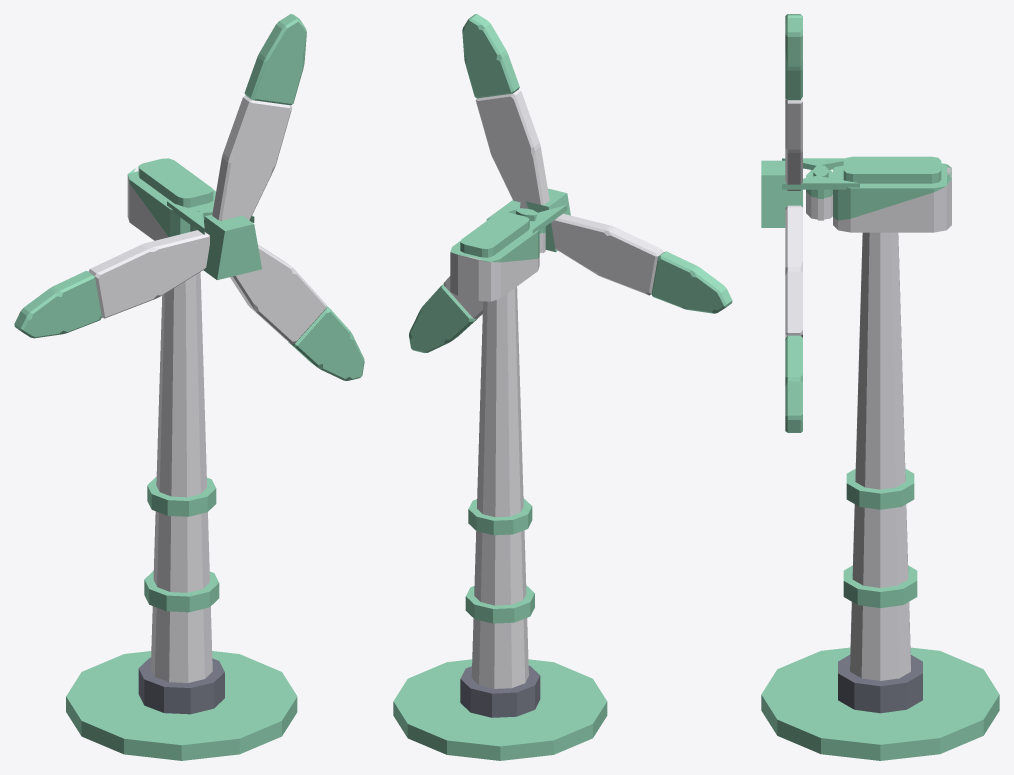
File: windturbine-1x1-t2-tone-a.glb
3 views of the same model, side by side, from view 1: azimuth 30°, elevation 25°; view 2: azimuth 150°, elevation 25°; view 3: azimuth 270°, elevation 25° (orthographic). The views are drawn at different scales.
Visible parts, largest first — view 1: windturbine-1x1-t2-tone-a; view 2: windturbine-1x1-t2-tone-a; view 3: windturbine-1x1-t2-tone-a.
Boxes of the visible parts, left/top/right/bottom form: windturbine-1x1-t2-tone-a: left=14, top=14, right=364, bottom=760; windturbine-1x1-t2-tone-a: left=393, top=14, right=732, bottom=760; windturbine-1x1-t2-tone-a: left=761, top=14, right=999, bottom=760.
Size of the model in its own units: 0.6865 by 1.35 by 0.4.
1 material, 1 textured.
